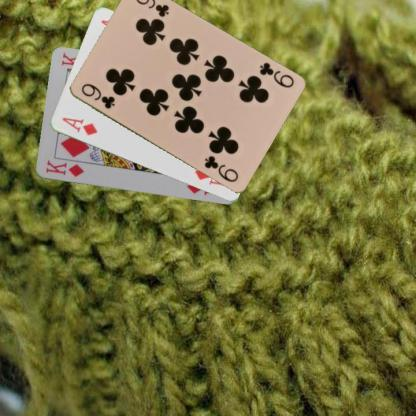9c: (256, 60, 295, 90), (78, 81, 116, 110)
Ad: (59, 115, 98, 137)
Kd: (43, 157, 85, 179)
